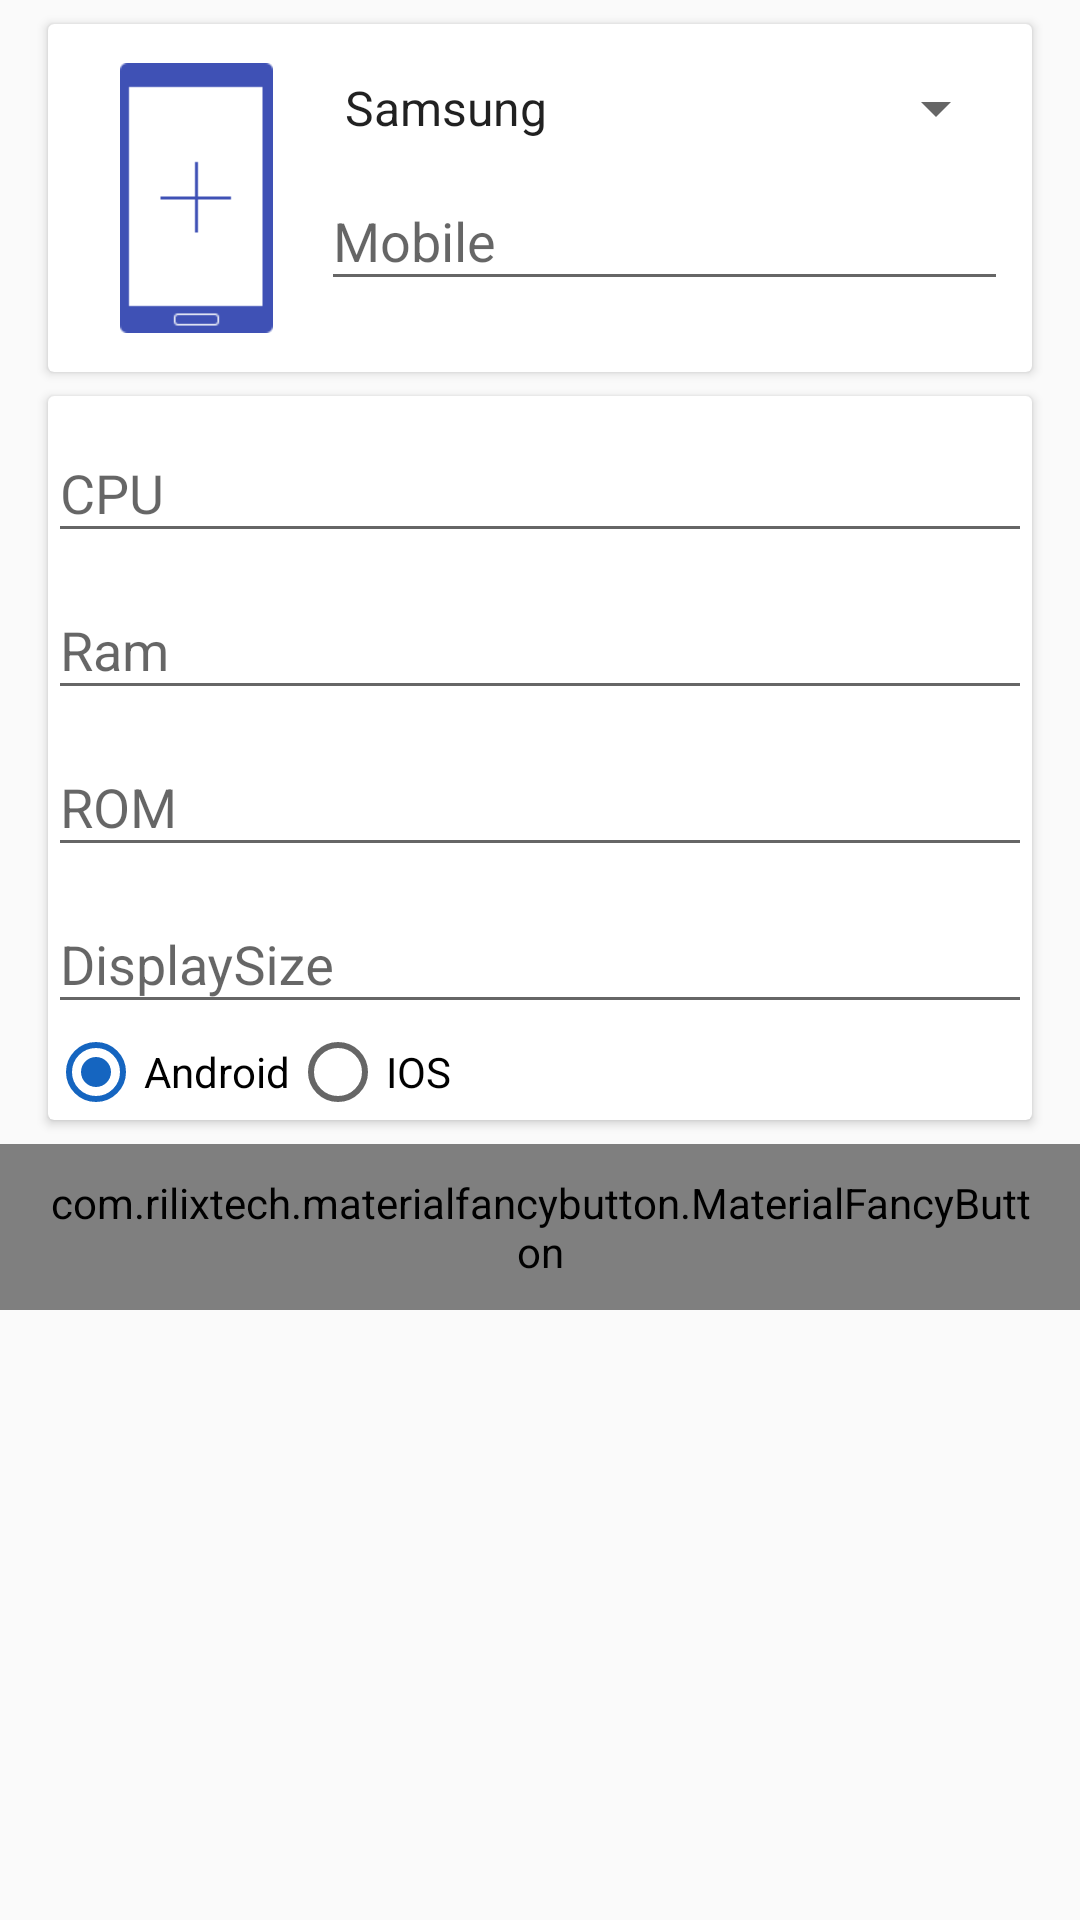

Screen size 1080*1920. Icon name, then its box in pixels as {"x1": x1, "y1": y1, "x2": x2, "y2": y2}:
device: {"x1": 120, "y1": 63, "x2": 273, "y2": 333}
